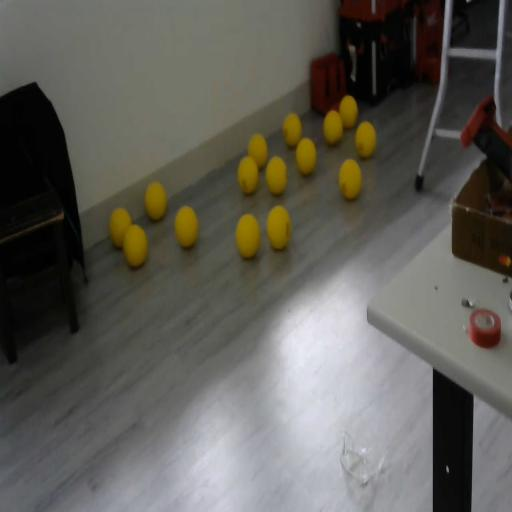FUEL: (234, 212, 262, 259), (173, 204, 199, 249), (122, 223, 148, 268), (266, 204, 290, 250), (265, 154, 288, 195), (339, 158, 362, 199), (144, 180, 166, 220), (354, 120, 376, 159), (247, 132, 268, 170), (296, 137, 316, 175), (282, 112, 303, 147), (338, 93, 358, 129), (323, 110, 343, 145)
